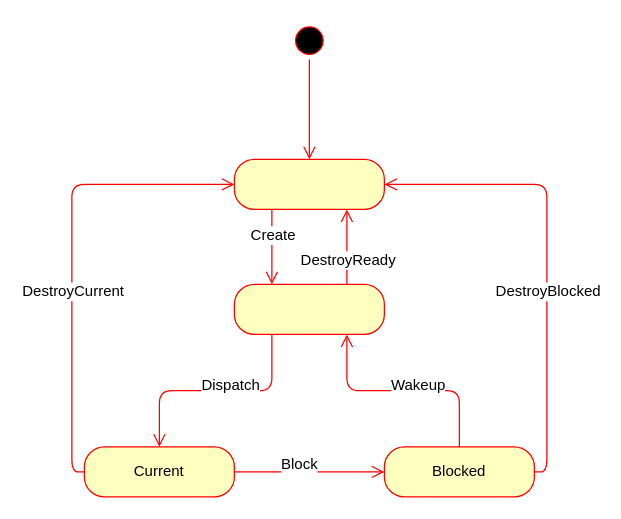
This 621x519 diagram has some shape labels left out. Here are the shapes that lost their labels. From the top down, the centre of each, then its label:
At (308,183): "Free".
At (308,308): "Ready".
